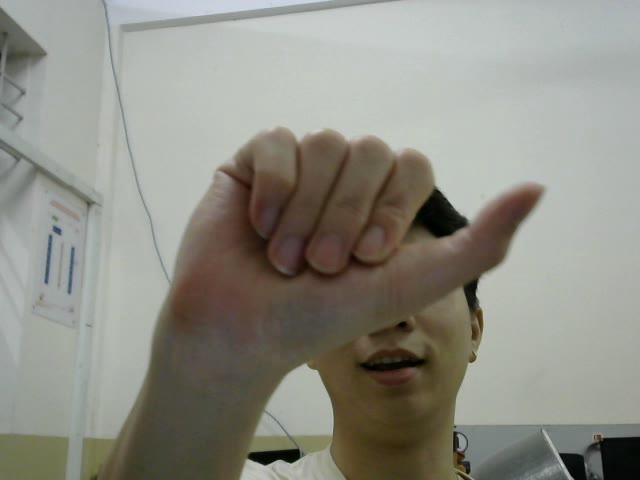A: (165, 124, 545, 342)
